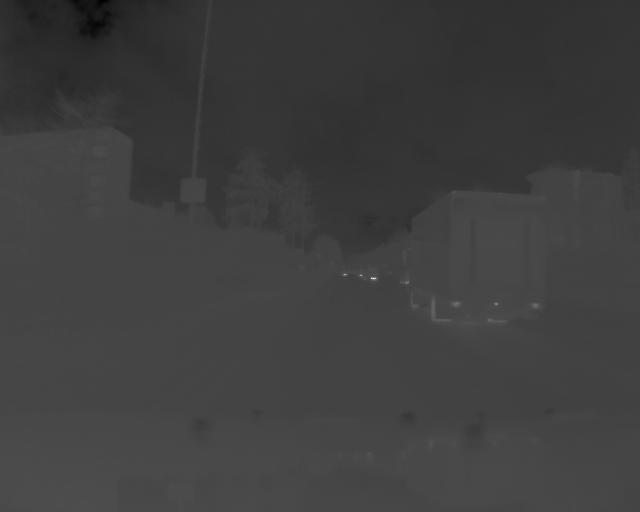car: (406, 188, 554, 331)
